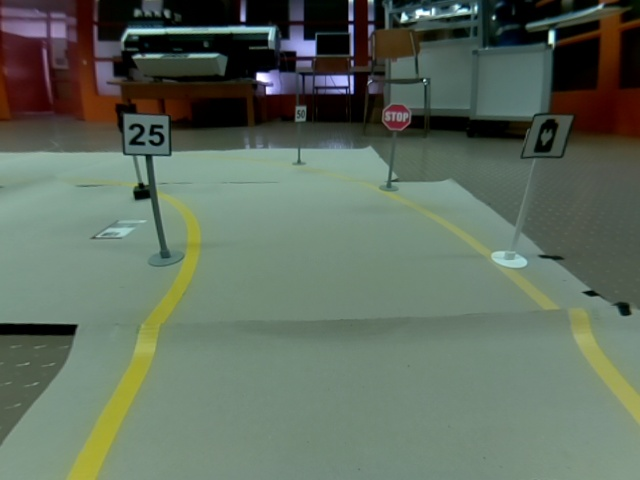battery: (519, 113, 575, 159)
speed25: (122, 112, 172, 156)
speed50: (295, 105, 306, 122)
stop: (381, 103, 412, 130)
trafficLightOff: (115, 103, 137, 133)
